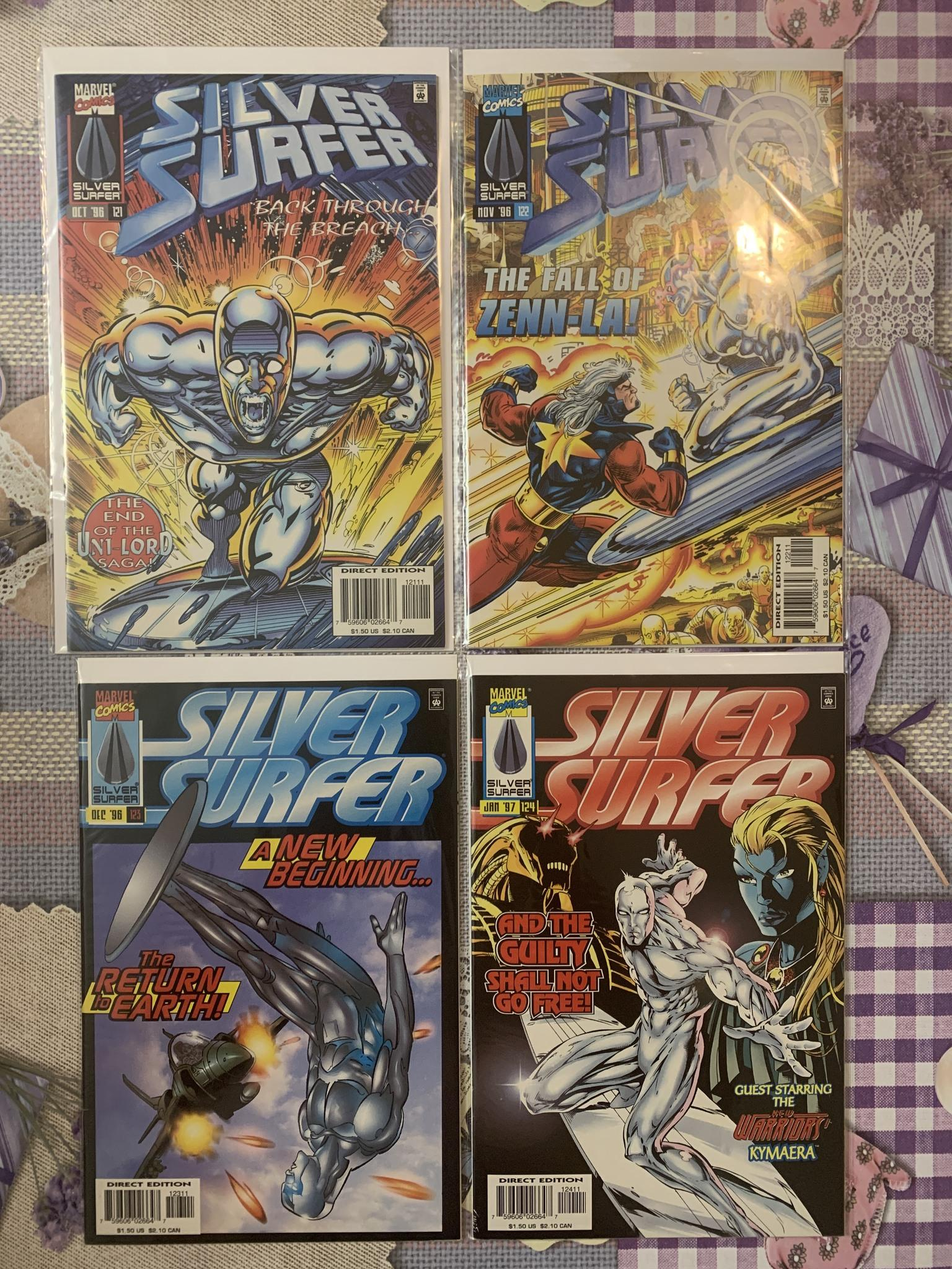comic: (44, 42, 458, 654), (462, 50, 843, 647), (80, 655, 462, 1243), (469, 650, 846, 1239)
